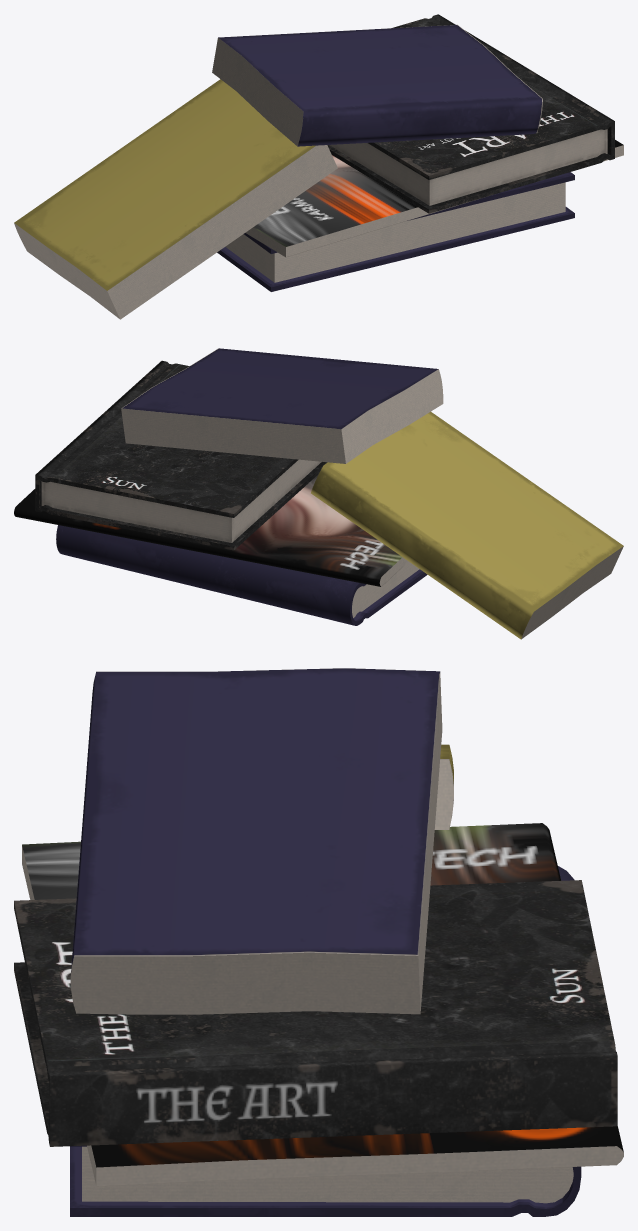
Rendered from SM_Book_Stack_05.fbx.
The picture shows the model from 3 angles, top to bottom: view 1: azimuth 30°, elevation 25°; view 2: azimuth 150°, elevation 25°; view 3: azimuth 270°, elevation 25°; orthographic projection. The views are drawn at different scales.
Parts seen in each view (by area): view 1: SM_Book_Stack_05_LOD0; view 2: SM_Book_Stack_05_LOD0; view 3: SM_Book_Stack_05_LOD0.
Boxes of the visible parts, bbox=[...] form: SM_Book_Stack_05_LOD0: bbox=[14, 14, 623, 319]; SM_Book_Stack_05_LOD0: bbox=[14, 348, 623, 639]; SM_Book_Stack_05_LOD0: bbox=[14, 668, 623, 1216].
Size of the model in its own units: 54.04 by 29.98 by 17.11.
